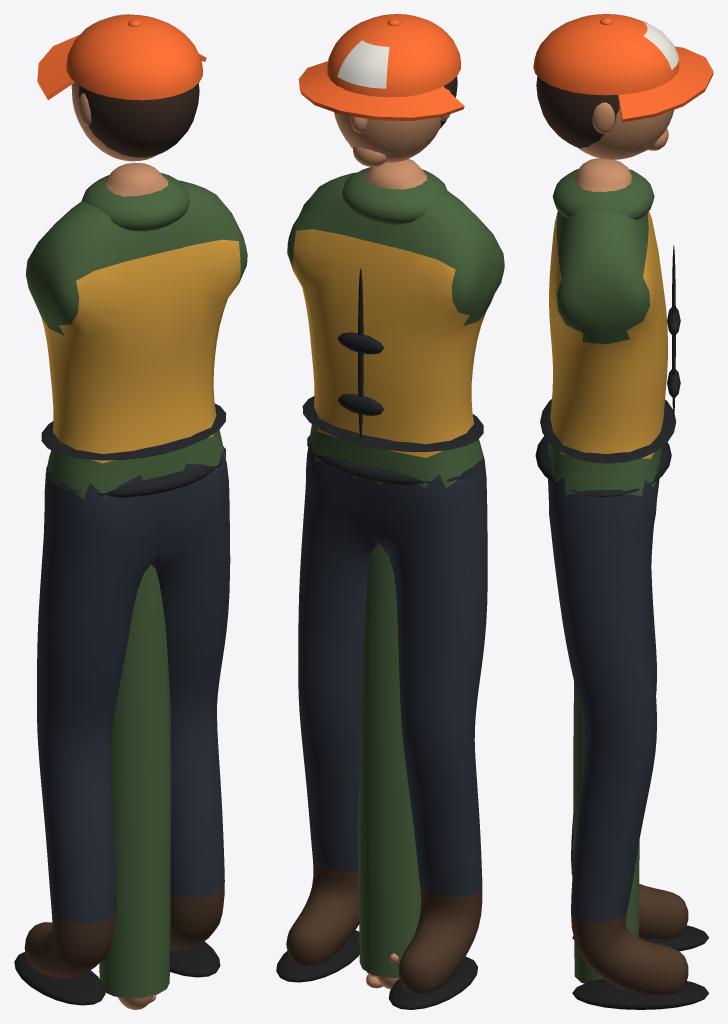
File: angler.glb
3 renders of one model, left to right at view 1: azimuth 30°, elevation 25°; view 2: azimuth 150°, elevation 25°; view 3: azimuth 270°, elevation 25°, orthographic. The views are drawn at different scales.
Parts seen in each view (by area): view 1: AnglerBody, AnglerUpperArm; view 2: AnglerBody, AnglerUpperArm; view 3: AnglerBody, AnglerUpperArm.
Part boxes in pixels (x1,y1,x2,y2): AnglerBody: (14, 14, 247, 1005); AnglerUpperArm: (99, 564, 171, 998); AnglerBody: (276, 14, 504, 1009); AnglerUpperArm: (358, 543, 420, 978); AnglerBody: (533, 14, 713, 1009); AnglerUpperArm: (573, 682, 639, 983).
Bounding box in the file's own units: 0.3795 × 1.89 × 0.3158.
